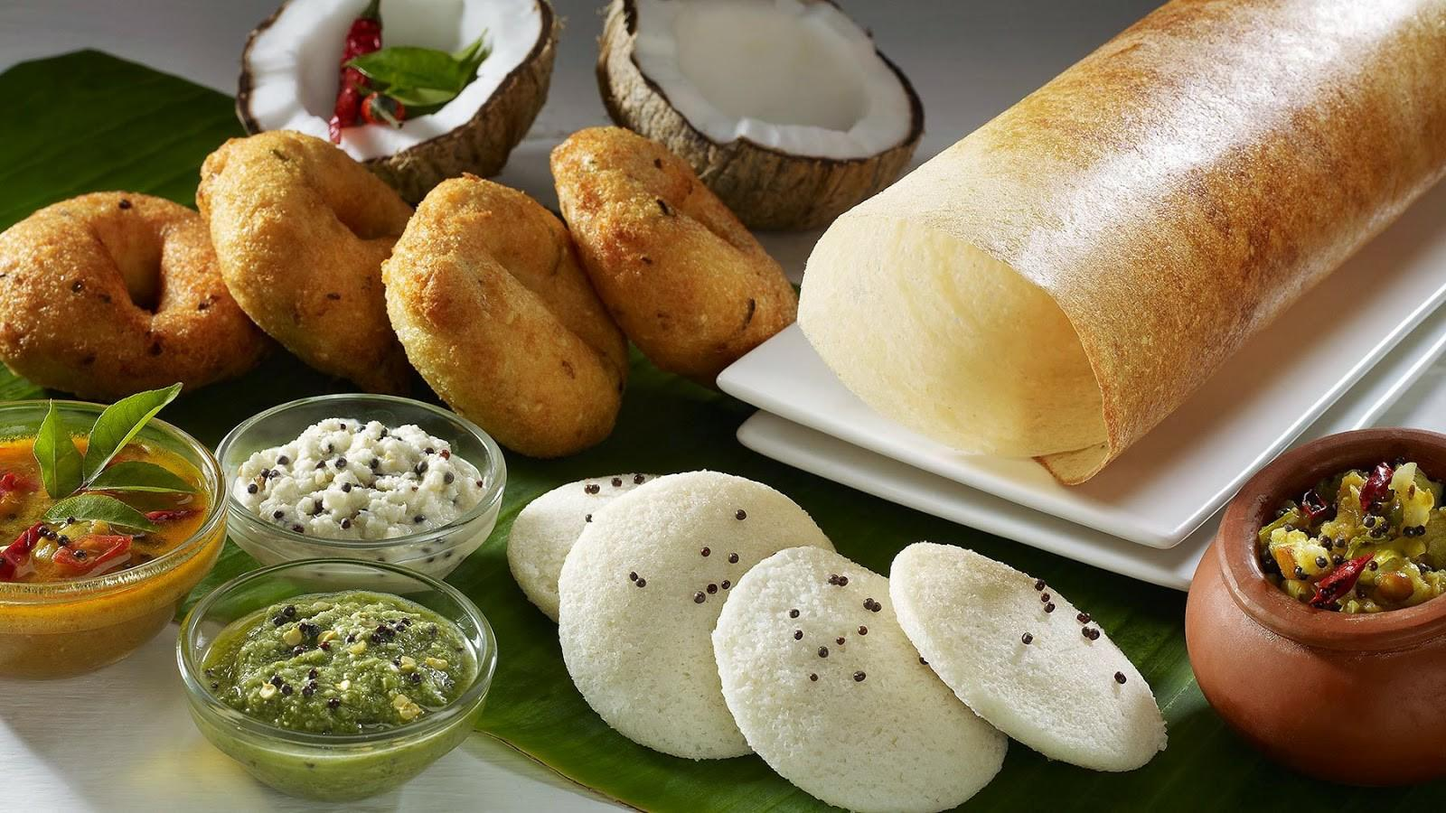CoconutChutney: (228, 420, 485, 580)
Dosa: (798, 0, 1446, 486)
GreenChutney: (198, 592, 476, 799)
Idli: (561, 472, 837, 759), (714, 548, 1004, 813), (890, 543, 1169, 772), (509, 472, 663, 619)
